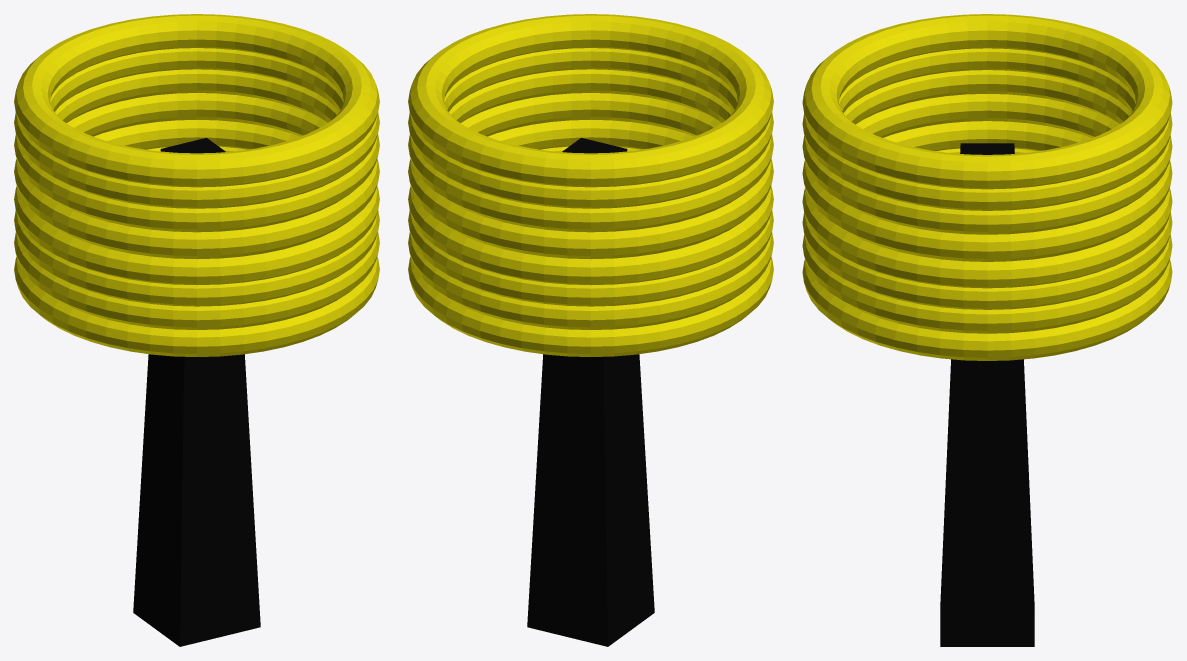
File: листи.fbx
3 renders of one model, left to right at view 1: azimuth 30°, elevation 25°; view 2: azimuth 150°, elevation 25°; view 3: azimuth 270°, elevation 25°, orthographic.
Visible parts, largest first — view 1: Cube, Torus.006, Torus.004, Torus.008, Torus.007, Torus.003, Torus.005, Torus.001, Torus.002; view 2: Cube, Torus.006, Torus.004, Torus.008, Torus.007, Torus.003, Torus.005, Torus.001, Torus.002; view 3: Torus.006, Cube, Torus.004, Torus.008, Torus.007, Torus.003, Torus.005, Torus.001, Torus.002.
Boxes of the visible parts, left/top/right/bottom form: Cube: left=133, top=137, right=260, bottom=646; Torus.006: left=14, top=14, right=379, bottom=187; Torus.004: left=14, top=93, right=379, bottom=259; Torus.008: left=14, top=69, right=379, bottom=232; Torus.007: left=14, top=48, right=379, bottom=208; Torus.003: left=14, top=120, right=379, bottom=285; Torus.005: left=14, top=257, right=379, bottom=356; Torus.001: left=14, top=232, right=379, bottom=329; Torus.002: left=14, top=146, right=379, bottom=306; Cube: left=527, top=137, right=654, bottom=646; Torus.006: left=408, top=14, right=773, bottom=187; Torus.004: left=408, top=93, right=773, bottom=259; Torus.008: left=408, top=69, right=773, bottom=232; Torus.007: left=408, top=48, right=773, bottom=208; Torus.003: left=408, top=120, right=773, bottom=285; Torus.005: left=408, top=257, right=773, bottom=356; Torus.001: left=408, top=232, right=773, bottom=329; Torus.002: left=408, top=146, right=773, bottom=306; Torus.006: left=802, top=14, right=1172, bottom=189; Cube: left=940, top=143, right=1034, bottom=646; Torus.004: left=802, top=94, right=1172, bottom=261; Torus.008: left=802, top=70, right=1172, bottom=234; Torus.007: left=802, top=48, right=1172, bottom=210; Torus.003: left=802, top=121, right=1172, bottom=288; Torus.005: left=802, top=260, right=1172, bottom=360; Torus.001: left=802, top=235, right=1172, bottom=333; Torus.002: left=802, top=148, right=1172, bottom=309.
Bounding box in the file's own units: 142 × 229 × 142.
